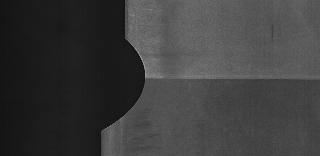welding line: (144, 74, 320, 88)
